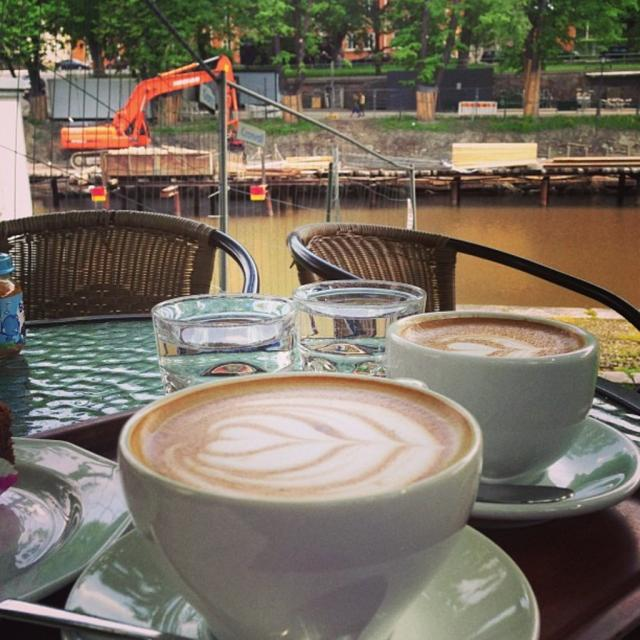latte: (119, 370, 482, 508), (385, 311, 597, 360)
